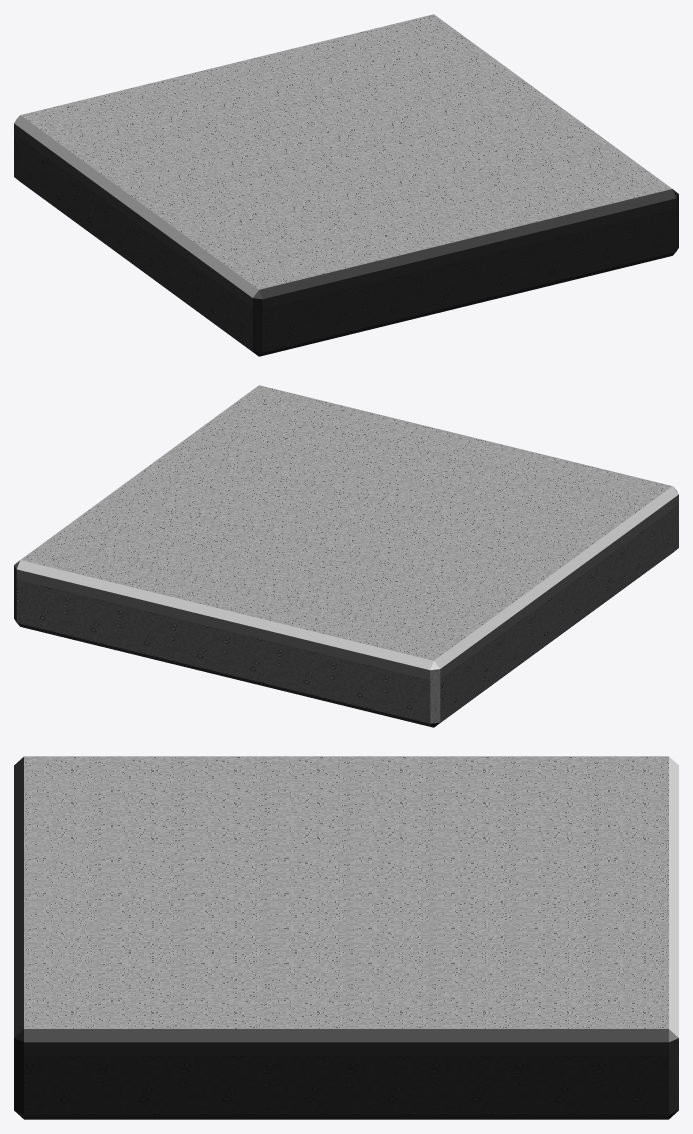
File: floor.obj
3 renders of one model, top to bottom at view 1: azimuth 30°, elevation 25°; view 2: azimuth 150°, elevation 25°; view 3: azimuth 270°, elevation 25°, orthographic. The views are drawn at different scales.
Parts seen in each view (by area): view 1: floor; view 2: floor; view 3: floor.
Boxes of the visible parts, x1,y1,x2,y2 form: floor: [14, 14, 678, 356]; floor: [14, 385, 678, 727]; floor: [14, 756, 678, 1119].
Size of the model in its own units: 8 by 1.2 by 8.
Materials: 4 (4 with a texture image).
